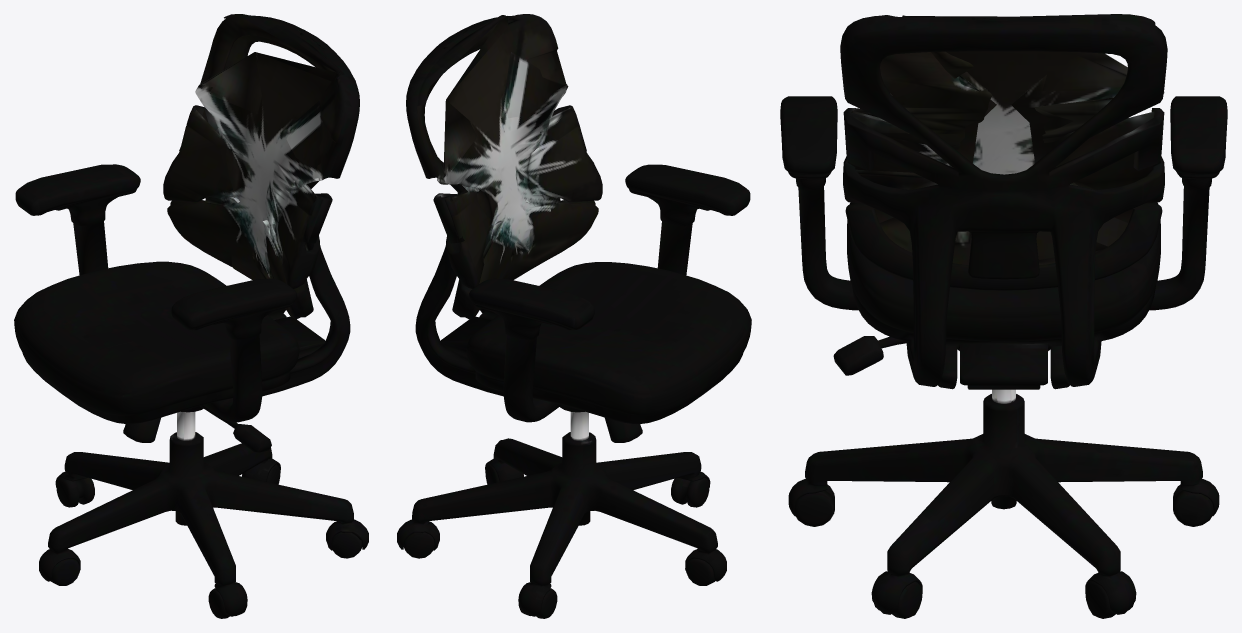
Rendered from broken_office_chair_1dc3c50c_v3.glb.
The picture shows the model from 3 angles, left to right: view 1: azimuth 30°, elevation 25°; view 2: azimuth 150°, elevation 25°; view 3: azimuth 270°, elevation 25°; orthographic projection. The views are drawn at different scales.
Visible parts, largest first — view 1: material; view 2: material; view 3: material.
Boxes of the visible parts, bbox=[...] form: material: bbox=[14, 14, 368, 618]; material: bbox=[397, 14, 751, 618]; material: bbox=[780, 14, 1227, 618].
Size of the model in its own units: 1.16 by 1.9 by 1.28.
1 material, 1 textured.
